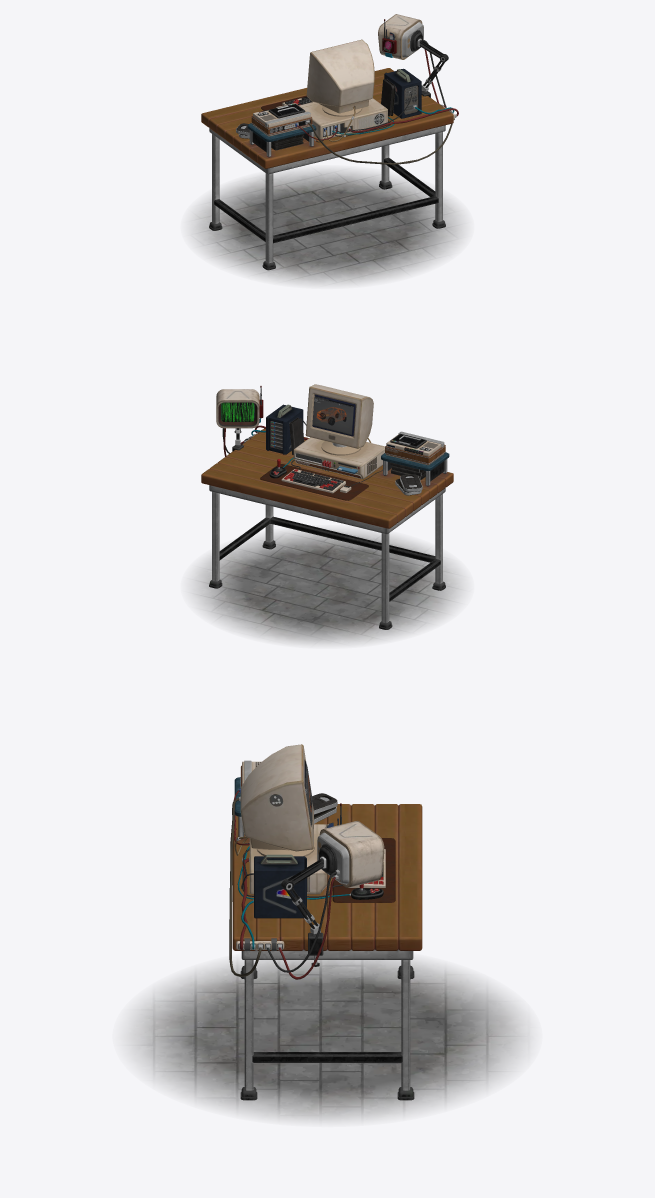
The model's file is hacker-room.glb.
3 renders of one model, top to bottom at view 1: azimuth 30°, elevation 25°; view 2: azimuth 150°, elevation 25°; view 3: azimuth 270°, elevation 25°, orthographic. The views are drawn at different scales.
Parts seen in each view (by area): view 1: table_table_mat_0; view 2: table_table_mat_0, screen_screens_0; view 3: table_table_mat_0.
Part boxes in pixels (box(x1,y1,x2,y2)): table_table_mat_0: box(190, 14, 464, 284); table_table_mat_0: box(190, 384, 464, 644); screen_screens_0: box(221, 394, 355, 436); table_table_mat_0: box(126, 744, 528, 1121).
Bounding box in the file's own units: 272 × 119 × 245.
14 materials, 14 textured.
